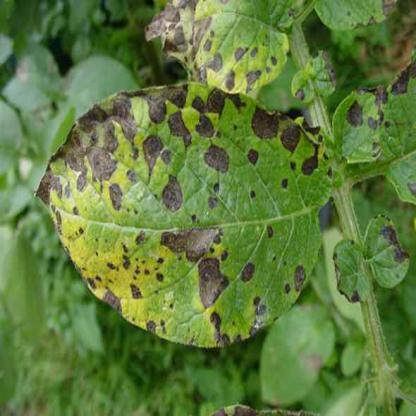Potato leaf early blight: (30, 85, 335, 347), (145, 1, 293, 106), (337, 72, 415, 162), (335, 215, 410, 300)
